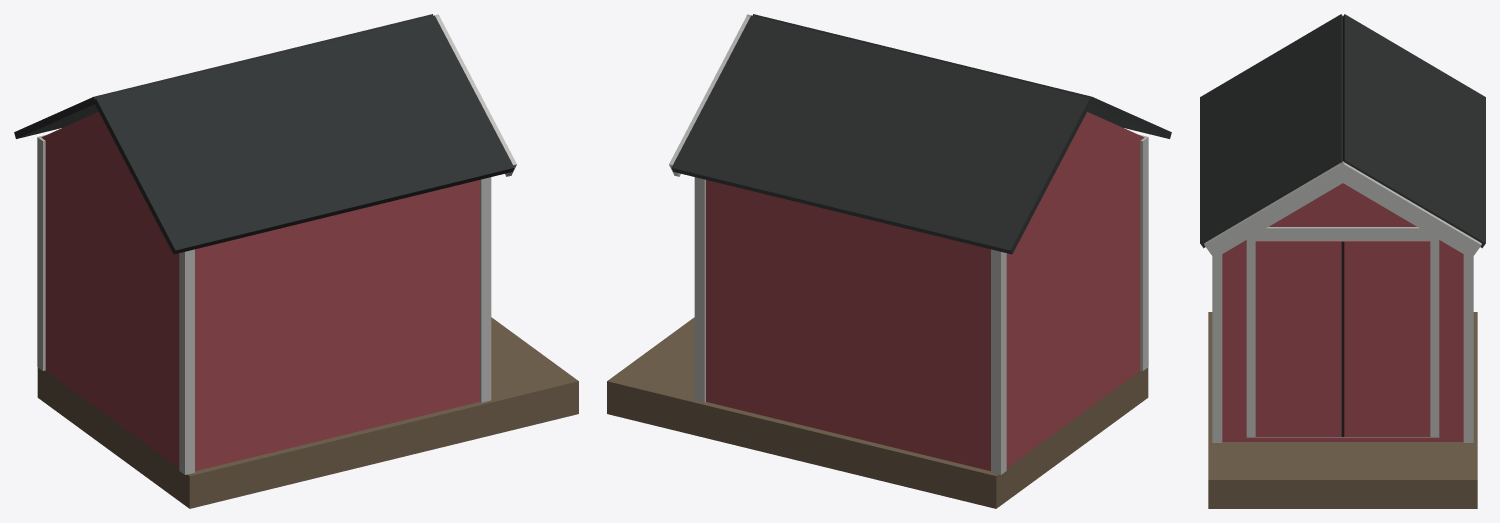
Rendered from SM_Prop_coast_beachhut_2_LOD1.glb.
The picture shows the model from 3 angles, left to right: view 1: azimuth 30°, elevation 25°; view 2: azimuth 150°, elevation 25°; view 3: azimuth 270°, elevation 25°; orthographic projection. The views are drawn at different scales.
Visible parts, largest first — view 1: SM_Prop_coast_beachhut_2_LOD1; view 2: SM_Prop_coast_beachhut_2_LOD1; view 3: SM_Prop_coast_beachhut_2_LOD1.
Part boxes in pixels (x1,y1,x2,y2): SM_Prop_coast_beachhut_2_LOD1: (14,14,578,508); SM_Prop_coast_beachhut_2_LOD1: (607,14,1171,508); SM_Prop_coast_beachhut_2_LOD1: (1200,14,1485,508).
Size of the model in its own units: 3.25 by 2.74 by 2.23.
